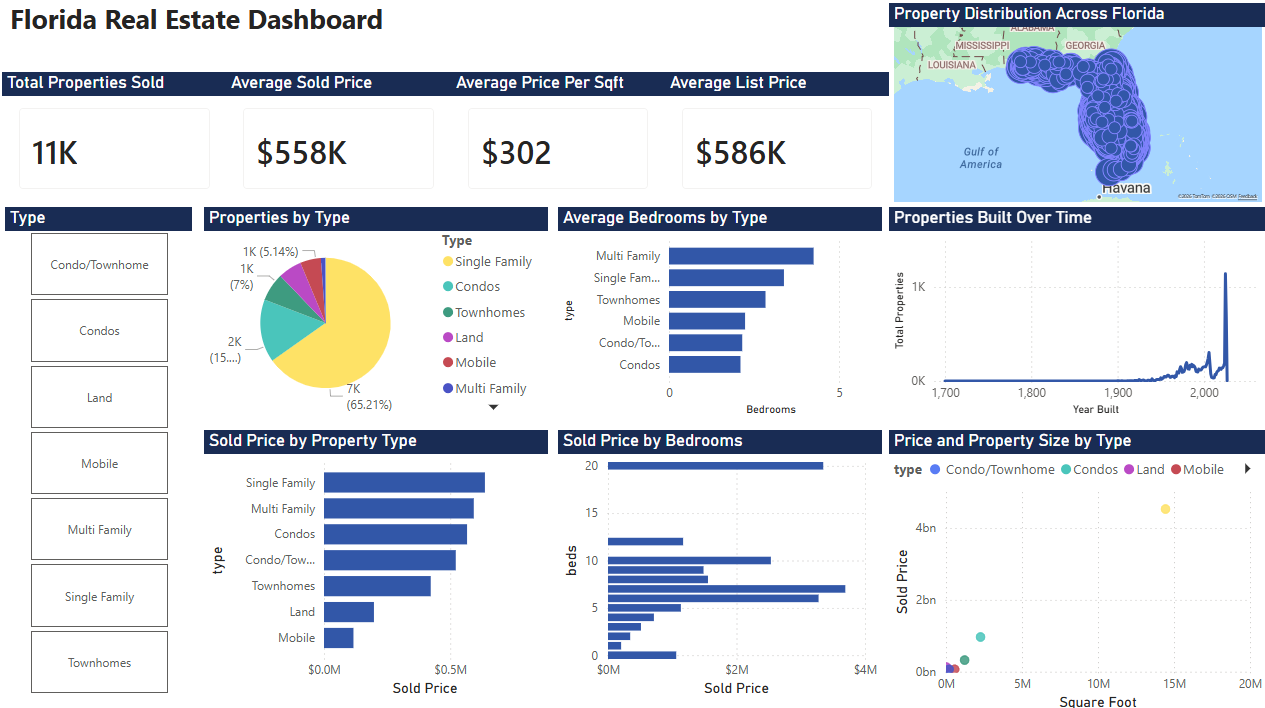

This screenshot's page, from the dashboard's own definition file:
{"tool":"powerbi","page":{"name":"Dashboard ","canvas":[1280,720],"ordinal":0},"visuals":[{"type":"textbox","box":[10,0,450,120],"z":0},{"type":"cardVisual","title":"Total Properties Sold","fields":{"Data":["florida_real_estate_sold_properties_ultimate.Total Properties"]},"box":[7.3,76.5,224.4,134.4],"z":1000},{"type":"cardVisual","title":"Average Sold Price","fields":{"Data":["RealEstate.Avg Sold Price"]},"box":[231.4,77.1,224.3,134.3],"z":2000},{"type":"cardVisual","title":"Average Price Per Sqft","fields":{"Data":["RealEstate.Avg Price Per Sqft"]},"box":[455.7,77.1,214.3,134.3],"z":3000},{"type":"cardVisual","title":"Average List Price","fields":{"Data":["RealEstate.Avg List Price"]},"box":[670,77.1,224.3,134.3],"z":4000},{"type":"slicer","title":"Type","fields":{"Values":["RealEstate.type"]},"box":[10,212,187,493],"z":5000},{"type":"azureMap","title":"Property Distribution Across Florida","fields":{"Category":["RealEstate.zip"],"Size":["RealEstate.Total Properties"]},"box":[894,15,378,197],"z":6000},{"type":"pieChart","title":"Properties by Type","fields":{"Category":["RealEstate.type"],"Y":["RealEstate.Total Properties"]},"box":[209,212,344,213],"z":7000},{"type":"clusteredBarChart","title":"Sold Price by Property Type","fields":{"Y":["RealEstate.Avg Sold Price"],"Category":["RealEstate.type"]},"box":[209,435,344,271],"z":8000},{"type":"clusteredBarChart","title":"Sold Price by Bedrooms","fields":{"Category":["RealEstate.beds"],"Y":["RealEstate.Avg Sold Price"]},"box":[563,435,324,271],"z":9000},{"type":"scatterChart","title":"Price and Property Size by Type","fields":{"X":["Sum(RealEstate.sqft)"],"Y":["Sum(RealEstate.lastSoldPrice)"],"Category":["RealEstate.type"],"Series":["RealEstate.type"]},"box":[894,435,378,285],"z":10000},{"type":"lineChart","title":"Properties Built Over Time","fields":{"Y":["RealEstate.Total Properties"],"Category":["RealEstate.year_built"]},"box":[894,212,378,213],"z":11000},{"type":"clusteredBarChart","title":"Average Bedrooms by Type","fields":{"Category":["RealEstate.type"],"Y":["Avg(RealEstate.beds)"]},"box":[563,212,324,213],"z":12000}]}

Visuals, with their boxes in screenshot pixels (x1, y1, x2, y2), scaled from the page's 1280x720 canvas onto the 1265x708 screenshot:
textbox: <bbox>10, 0, 455, 118</bbox>
"Total Properties Sold" cardVisual: <bbox>7, 75, 229, 207</bbox>
"Average Sold Price" cardVisual: <bbox>229, 76, 450, 208</bbox>
"Average Price Per Sqft" cardVisual: <bbox>450, 76, 662, 208</bbox>
"Average List Price" cardVisual: <bbox>662, 76, 884, 208</bbox>
"Type" slicer: <bbox>10, 208, 195, 693</bbox>
"Property Distribution Across Florida" azureMap: <bbox>884, 15, 1257, 208</bbox>
"Properties by Type" pieChart: <bbox>207, 208, 547, 418</bbox>
"Sold Price by Property Type" clusteredBarChart: <bbox>207, 428, 547, 694</bbox>
"Sold Price by Bedrooms" clusteredBarChart: <bbox>556, 428, 877, 694</bbox>
"Price and Property Size by Type" scatterChart: <bbox>884, 428, 1257, 707</bbox>
"Properties Built Over Time" lineChart: <bbox>884, 208, 1257, 418</bbox>
"Average Bedrooms by Type" clusteredBarChart: <bbox>556, 208, 877, 418</bbox>
